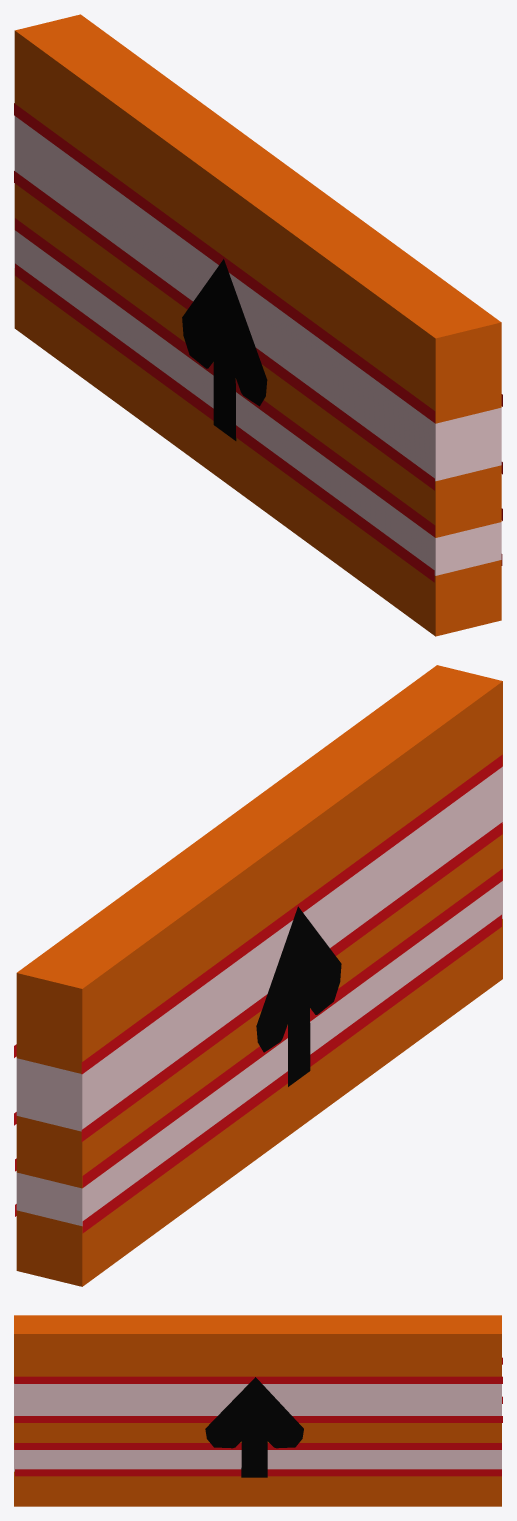
Rendered from wall.fbx.
The picture shows the model from 3 angles, top to bottom: view 1: azimuth 30°, elevation 25°; view 2: azimuth 150°, elevation 25°; view 3: azimuth 270°, elevation 25°; orthographic projection. The views are drawn at different scales.
Parts seen in each view (by area): view 1: Cube, Cube.002, Cube.004, Cube.001, Cube.006; view 2: Cube, Cube.002, Cube.004, Cube.001, Cube.006; view 3: Cube, Cube.002, Cube.003, Cube.001, Cube.005.
Part boxes in pixels (<box>): Cube: <box>14,14,501,636</box>; Cube.002: <box>14,116,501,481</box>; Cube.004: <box>14,103,435,582</box>; Cube.001: <box>14,230,501,575</box>; Cube.006: <box>182,259,267,440</box>; Cube: <box>16,665,502,1286</box>; Cube.002: <box>16,766,502,1131</box>; Cube.004: <box>81,754,502,1233</box>; Cube.001: <box>16,881,502,1226</box>; Cube.006: <box>256,906,341,1086</box>; Cube: <box>14,1315,501,1506</box>; Cube.002: <box>14,1383,501,1416</box>; Cube.003: <box>14,1376,502,1476</box>; Cube.001: <box>14,1450,501,1471</box>; Cube.005: <box>205,1377,303,1477</box>.
Bounding box in the file's own units: 634 × 2429 × 6226.
